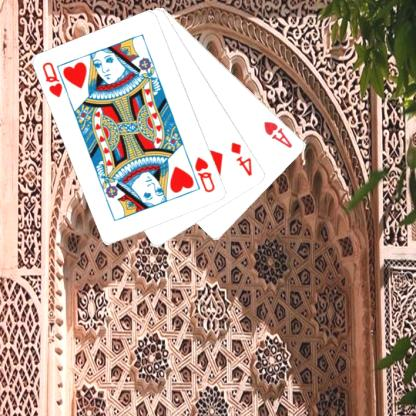4D: (228, 140, 254, 178)
AH: (261, 118, 294, 149)
QH: (40, 60, 72, 100), (192, 154, 217, 194)
